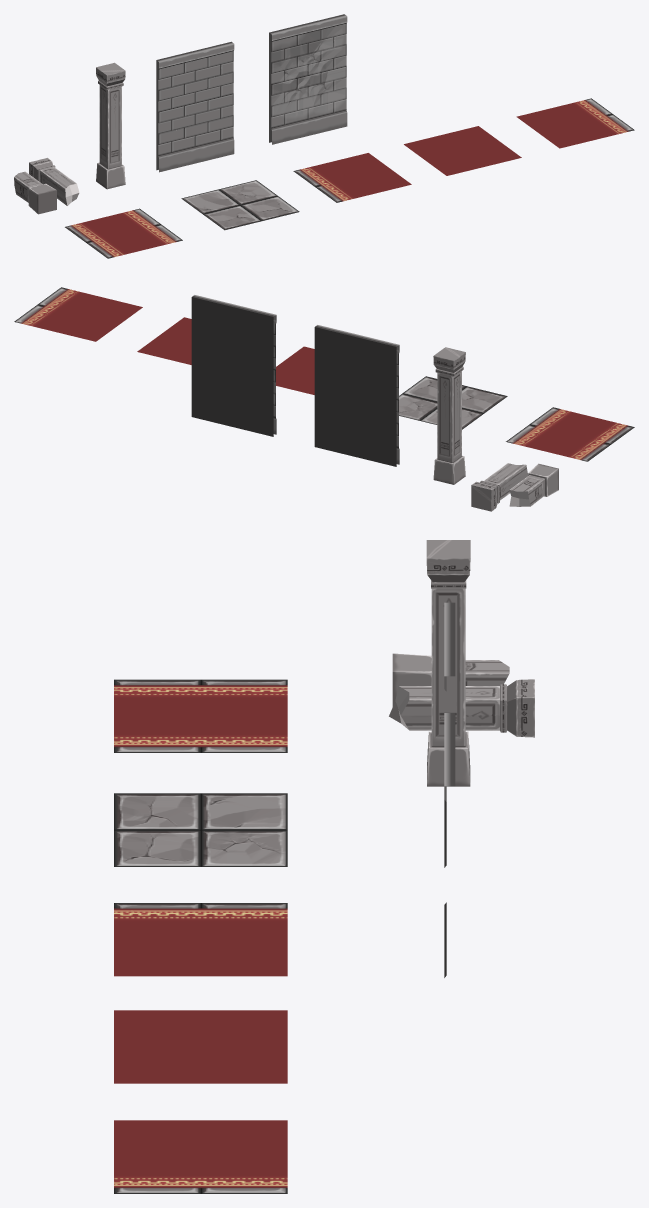
File: map_waf_pg.fbx
3 renders of one model, top to bottom at view 1: azimuth 30°, elevation 25°; view 2: azimuth 150°, elevation 25°; view 3: azimuth 270°, elevation 25°, orthographic. The views are drawn at different scales.
Parts seen in each view (by area): view 1: wall_broke, wall, tile_rc_R, tile_n, tile_rc_L, tile_rc_n, tile_rc_M, pillar, pillar_broke_2, pillar_broke_1; view 2: wall_broke, wall, tile_rc_n, tile_rc_R, pillar, tile_n, pillar_broke_1, tile_rc_M, tile_rc_L, pillar_broke_2; view 3: tile_n, tile_rc_L, tile_rc_M, tile_rc_R, tile_rc_n, pillar, pillar_broke_1, pillar_broke_2, wall_broke, wall.
Part boxes in pixels (box(x1,y1,x2,y2)): wall_broke: box(269, 14, 347, 144); wall: box(156, 41, 234, 172); tile_rc_R: box(516, 98, 634, 148); tile_n: box(181, 180, 299, 230); tile_rc_L: box(293, 153, 411, 202); tile_rc_n: box(65, 208, 182, 258); tile_rc_M: box(404, 126, 521, 175); pillar: box(96, 62, 125, 189); pillar_broke_2: box(14, 171, 56, 214); pillar_broke_1: box(29, 157, 79, 205); wall_broke: box(191, 295, 276, 436); wall: box(314, 325, 399, 466); tile_rc_n: box(506, 407, 634, 461); tile_rc_R: box(14, 287, 142, 341); pillar: box(433, 347, 465, 484); tile_n: box(399, 376, 507, 429); pillar_broke_1: box(471, 463, 528, 511); tile_rc_M: box(137, 317, 191, 364); tile_rc_L: box(276, 346, 314, 394); pillar_broke_2: box(509, 463, 558, 506); tile_n: box(114, 793, 287, 866); tile_rc_L: box(114, 903, 287, 976); tile_rc_M: box(114, 1010, 287, 1083); tile_rc_R: box(114, 1120, 287, 1193); tile_rc_n: box(114, 679, 287, 752); pillar: box(426, 540, 470, 786); pillar_broke_1: box(389, 679, 534, 737); pillar_broke_2: box(392, 653, 509, 706); wall_broke: box(444, 713, 455, 977); wall: box(444, 602, 455, 867).
Size of the model in its own units: 1400 by 290 by 485.
10 materials, 10 textured.
